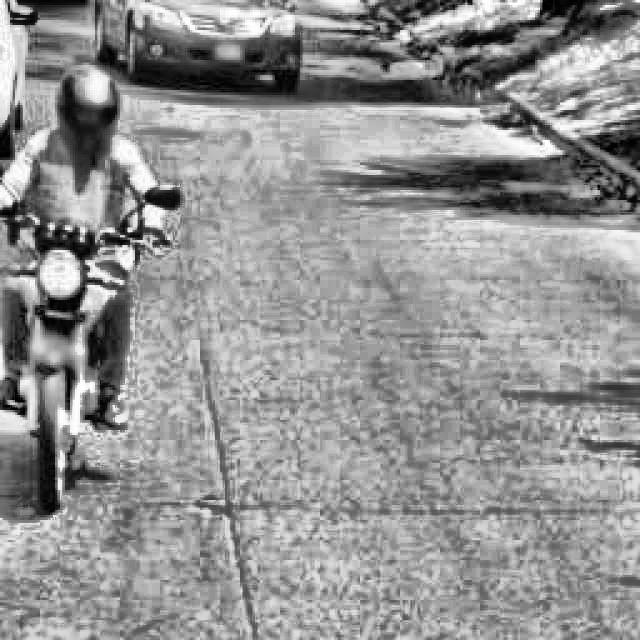motorcycle: (2, 155, 184, 522)
